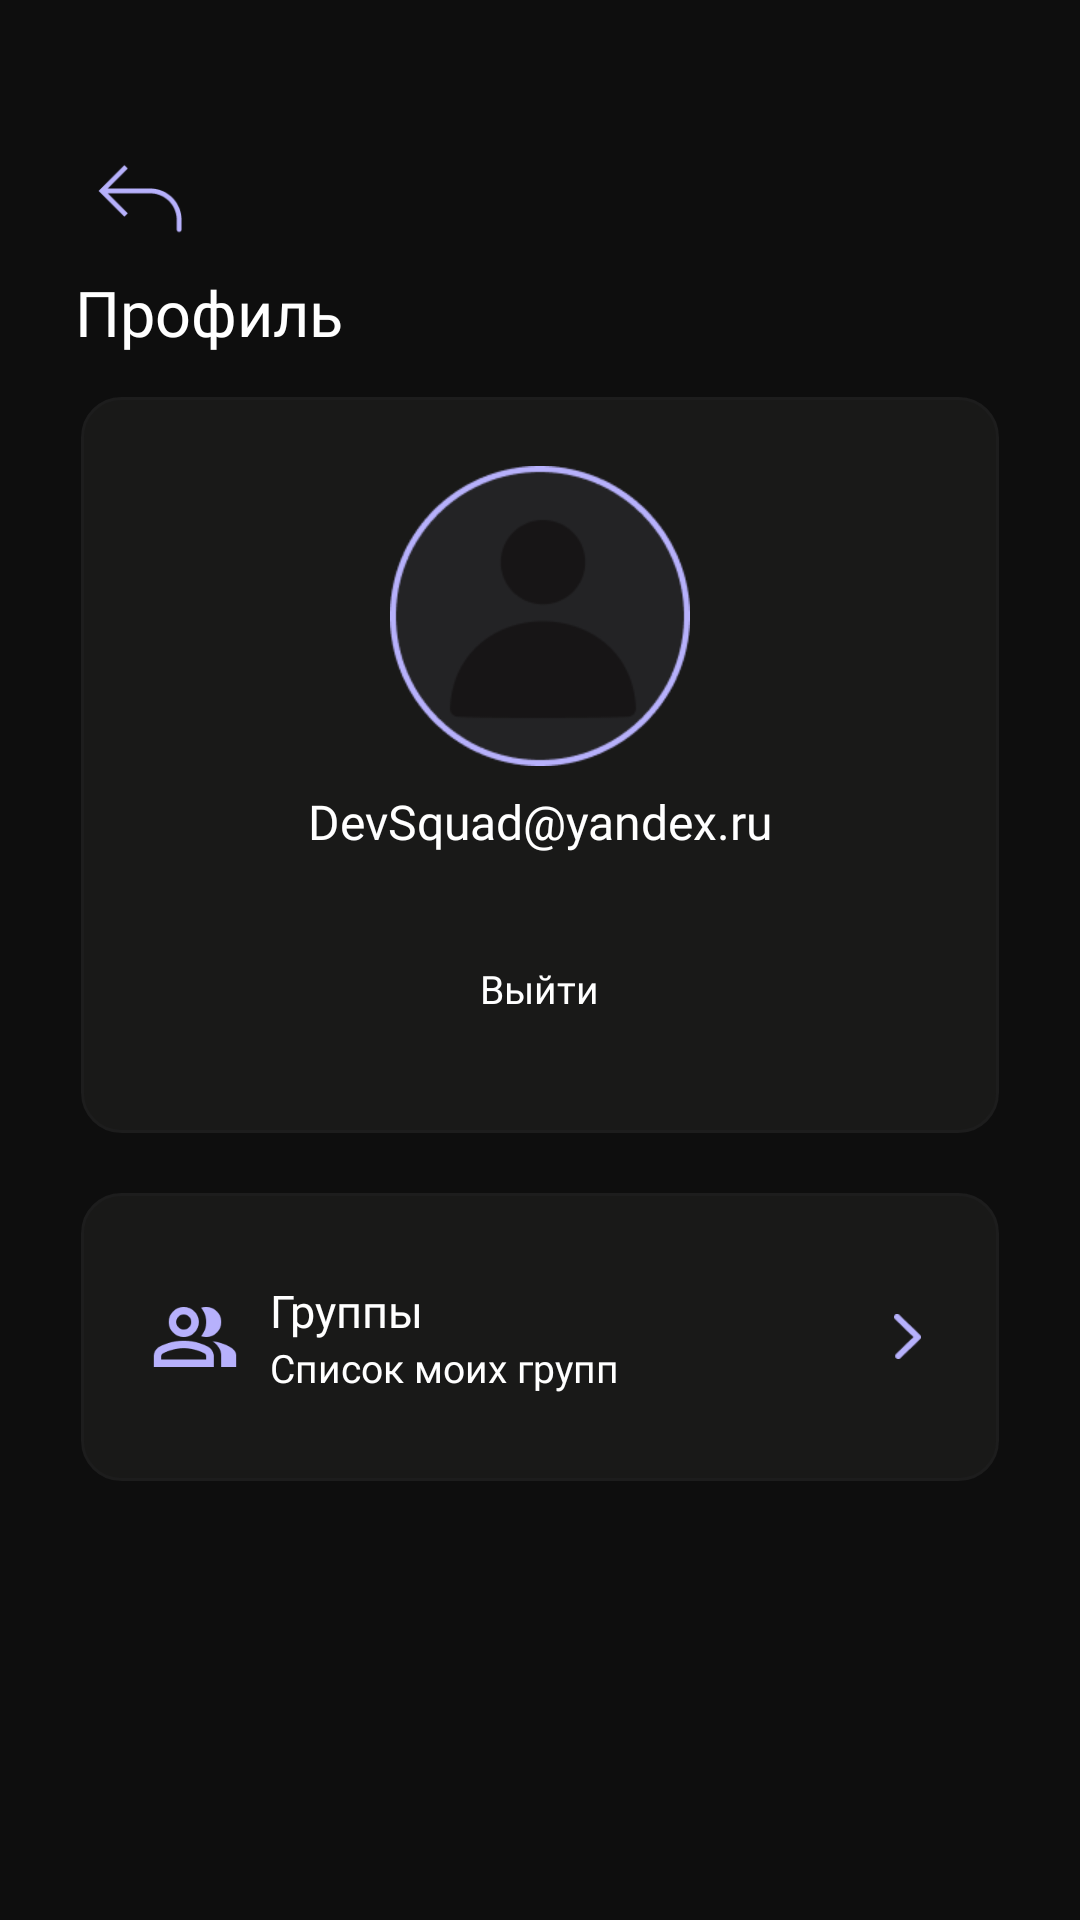

Where icons sit on this 1080 × 1920 app screen, as (x1, y1, x2, y2):
arrow to the right: (894, 1314, 921, 1359)
back: (98, 165, 182, 233)
user group: (153, 1307, 237, 1367)
user profile: (390, 466, 690, 766)
